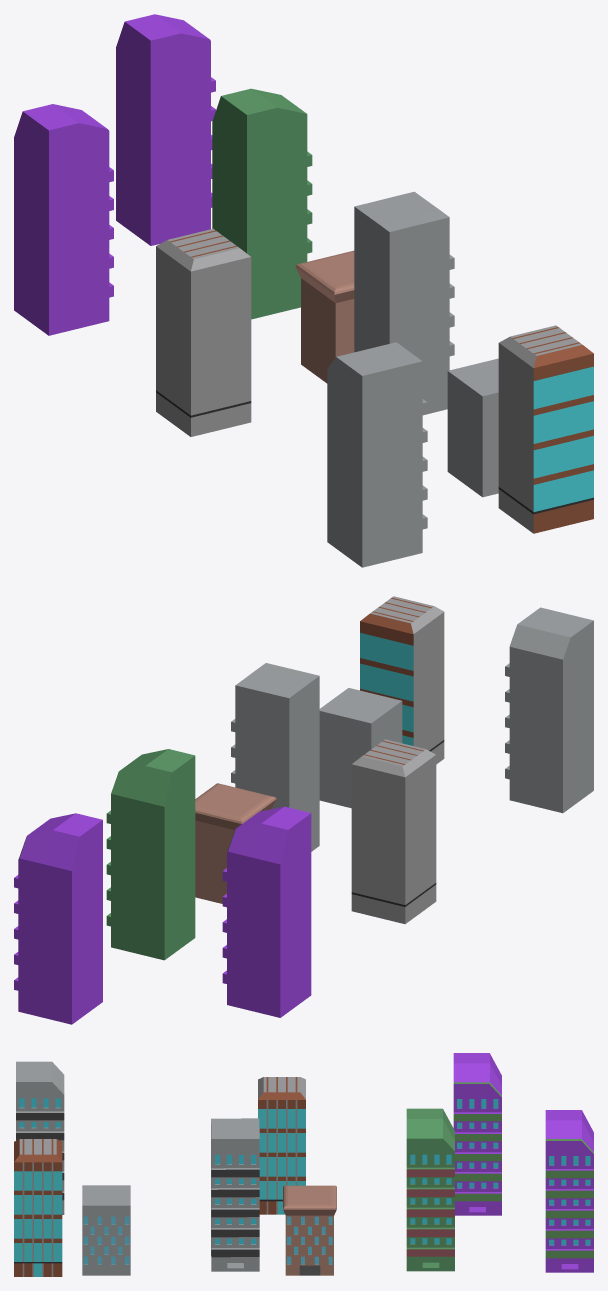
File: BuildingsRender.fbx
3 views of the same model, one above another, from view 1: azimuth 30°, elevation 25°; view 2: azimuth 150°, elevation 25°; view 3: azimuth 270°, elevation 25° (orthographic). The views are drawn at different scales.
Visible parts, largest first — view 1: Cube.009, Cube.013, Cube.014, Cube.012, Cube.001, Cube.016, Cube.017, Cube.023, Cube.021; view 2: Cube.016, Cube.009, Cube.013, Cube.014, Cube.001, Cube.017, Cube.012, Cube.023, Cube.021; view 3: Cube.016, Cube.013, Cube.009, Cube.017, Cube.012, Cube.001, Cube.021, Cube.023, Cube.014.
Boxes of the visible parts, <box> form: Cube.009: <box>14,104,113,335</box>; Cube.013: <box>116,14,215,245</box>; Cube.014: <box>327,342,427,567</box>; Cube.012: <box>498,325,593,533</box>; Cube.001: <box>156,228,251,436</box>; Cube.016: <box>212,88,312,319</box>; Cube.017: <box>354,191,454,415</box>; Cube.023: <box>447,358,498,497</box>; Cube.021: <box>295,250,354,383</box>; Cube.016: <box>106,749,195,960</box>; Cube.009: <box>222,806,311,1017</box>; Cube.013: <box>14,813,102,1024</box>; Cube.014: <box>505,607,593,813</box>; Cube.001: <box>351,739,436,924</box>; Cube.017: <box>231,663,319,851</box>; Cube.012: <box>360,596,444,764</box>; Cube.023: <box>319,688,402,808</box>; Cube.021: <box>195,783,276,903</box>; Cube.016: <box>406,1108,454,1271</box>; Cube.013: <box>545,1110,593,1272</box>; Cube.009: <box>453,1053,501,1215</box>; Cube.017: <box>211,1118,259,1271</box>; Cube.012: <box>14,1139,62,1276</box>; Cube.001: <box>258,1077,305,1214</box>; Cube.021: <box>283,1185,336,1275</box>; Cube.023: <box>82,1185,130,1275</box>; Cube.014: <box>16,1061,64,1214</box>.
Bounding box in the file's own units: 1416 × 1214 × 4348.
